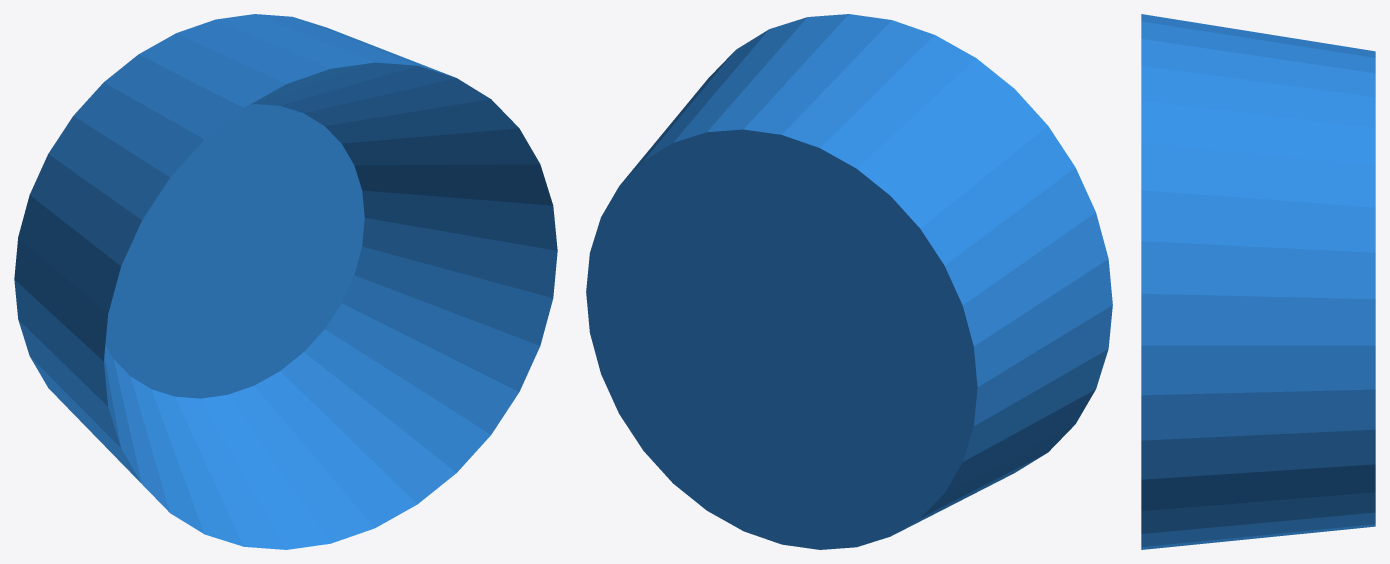
Rendered from food.glb.
3 renders of one model, left to right at view 1: azimuth 30°, elevation 25°; view 2: azimuth 150°, elevation 25°; view 3: azimuth 270°, elevation 25°, orthographic. The views are drawn at different scales.
Visible parts, largest first — view 1: Cylinder; view 2: Cylinder; view 3: Cylinder.
Part boxes in pixels (left/top/right/bottom): Cylinder: left=14, top=14, right=557, bottom=549; Cylinder: left=586, top=14, right=1112, bottom=549; Cylinder: left=1141, top=14, right=1375, bottom=549.
Bounding box in the file's own units: 2 × 2 × 0.8724.
